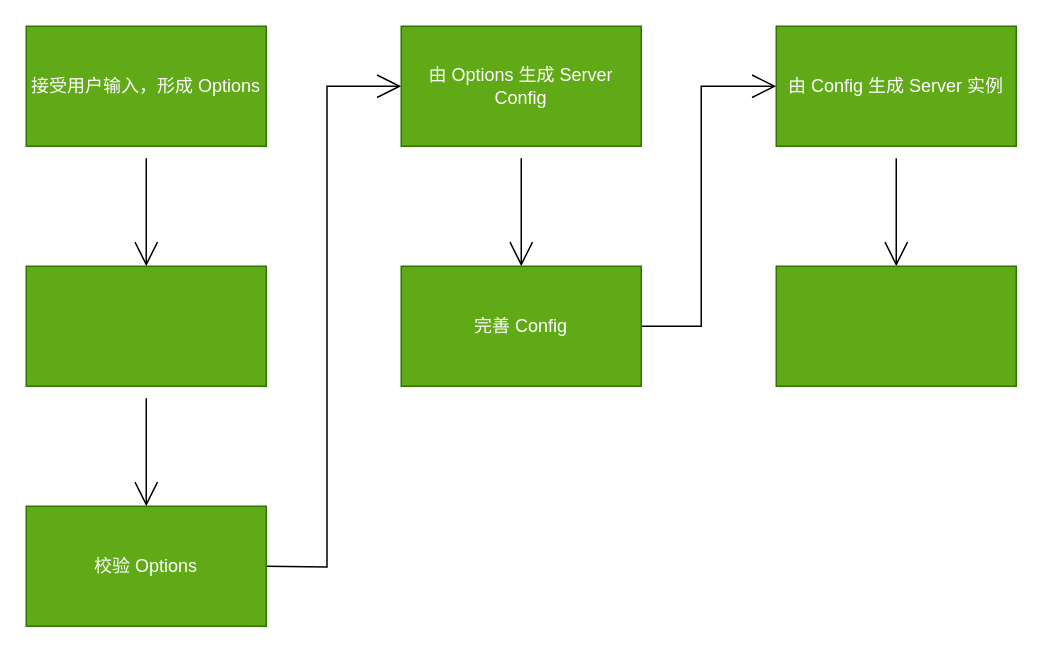
Image size: 1043x653. Some labels were removed from this diagram. The centre of each missing label's shape, as x and y in pixels:
"启动 Server 实例" goes at (895,325).
"完善Options" goes at (145,325).
